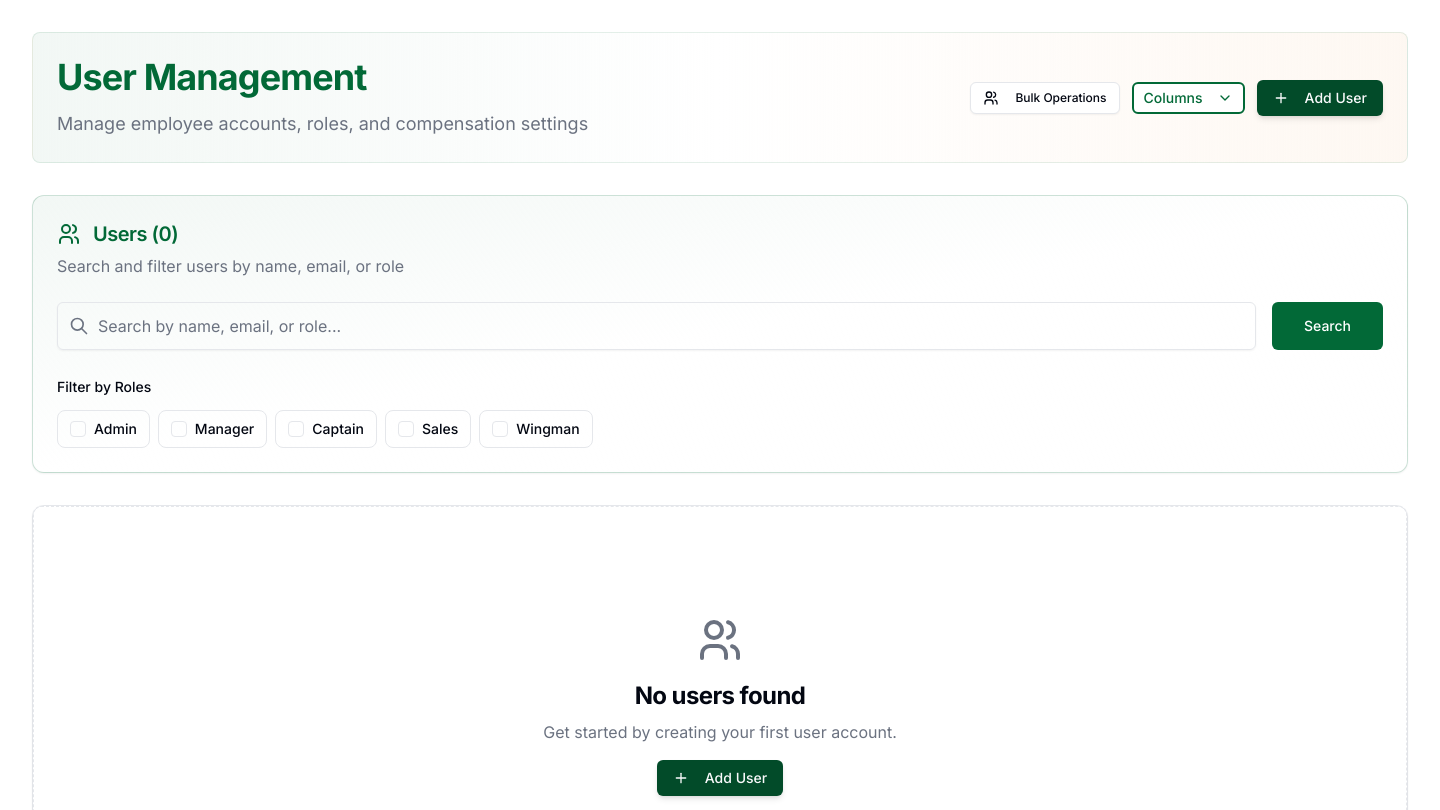
Scenario: UserManagementDashboard - Manager Capabilities › Empty States › should show filtered empty state when search returns no results
Type "NonExistentUser" into the field with placeholder "Search by name, email, or role...".
click(656, 326); type("NonExistentUser")  # box [57, 302, 1256, 350]
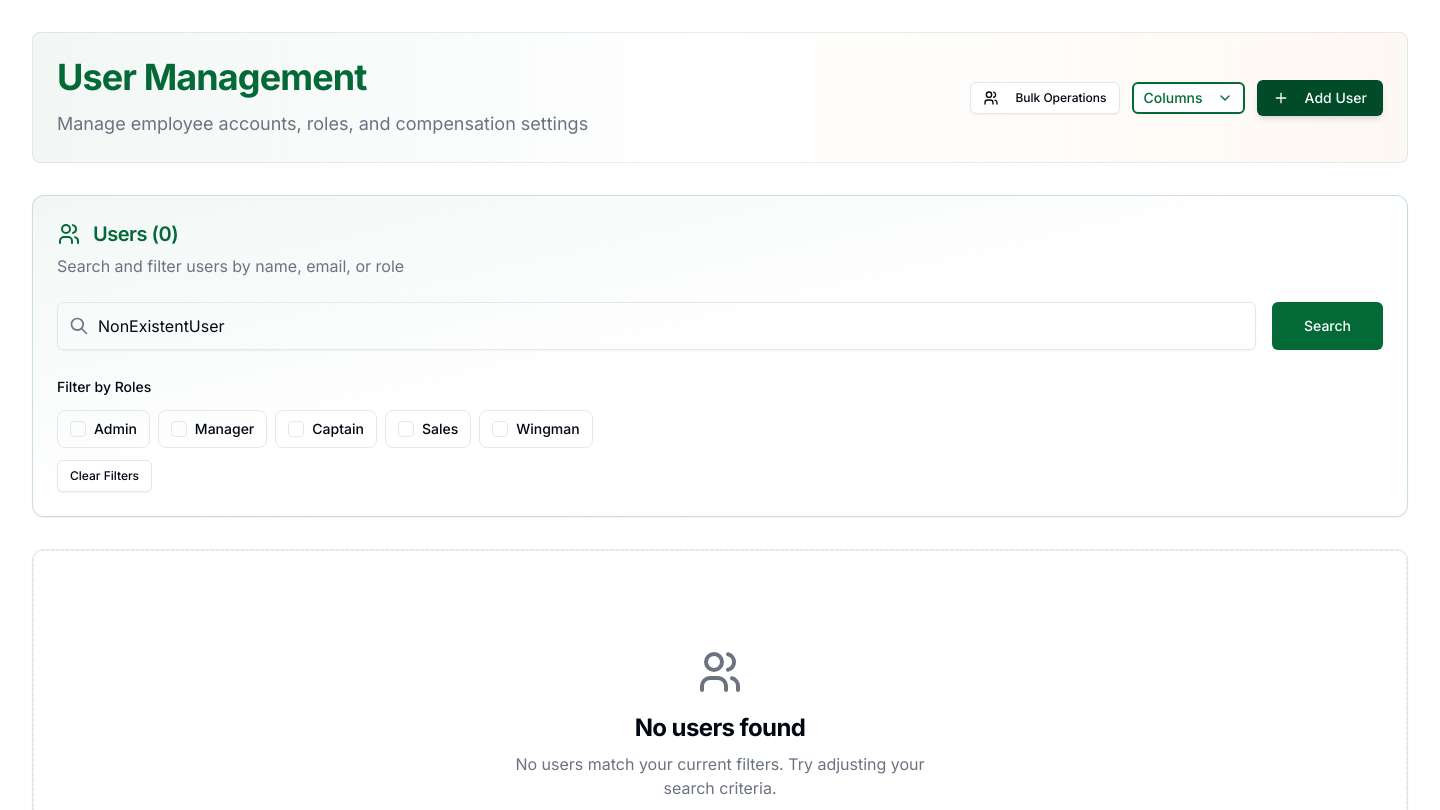
Expected: the heading "No users found" is shown, [635, 713, 805, 742]
Result: the text "No users match your current filters. Try adjusting your search criteria." is shown at [496, 752, 944, 800]
